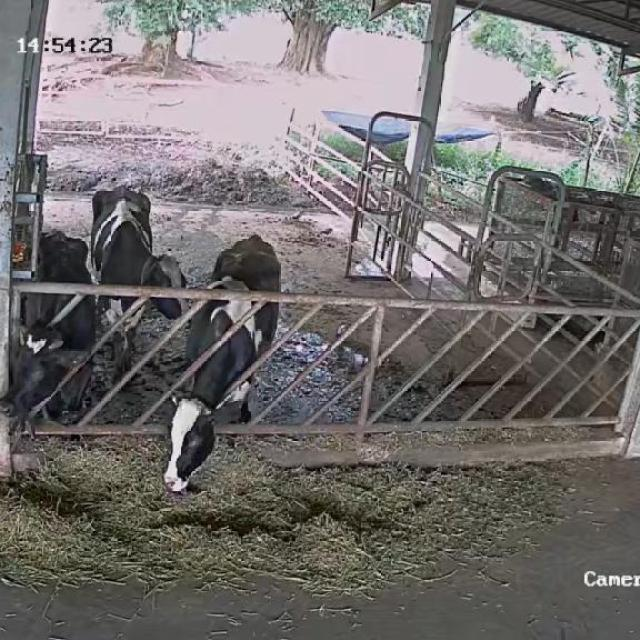feeding: (154, 238, 279, 497), (0, 233, 101, 449)
standing: (90, 186, 190, 376)
